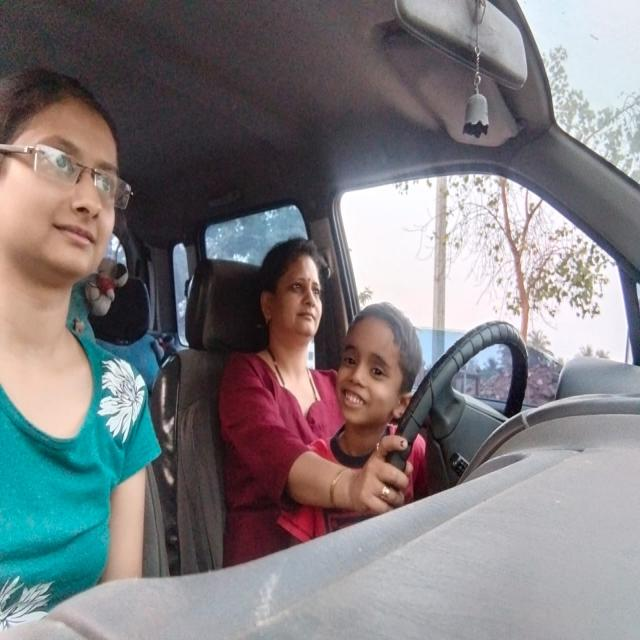child: (328, 296, 422, 433)
person: (2, 66, 134, 306), (256, 227, 331, 353)
